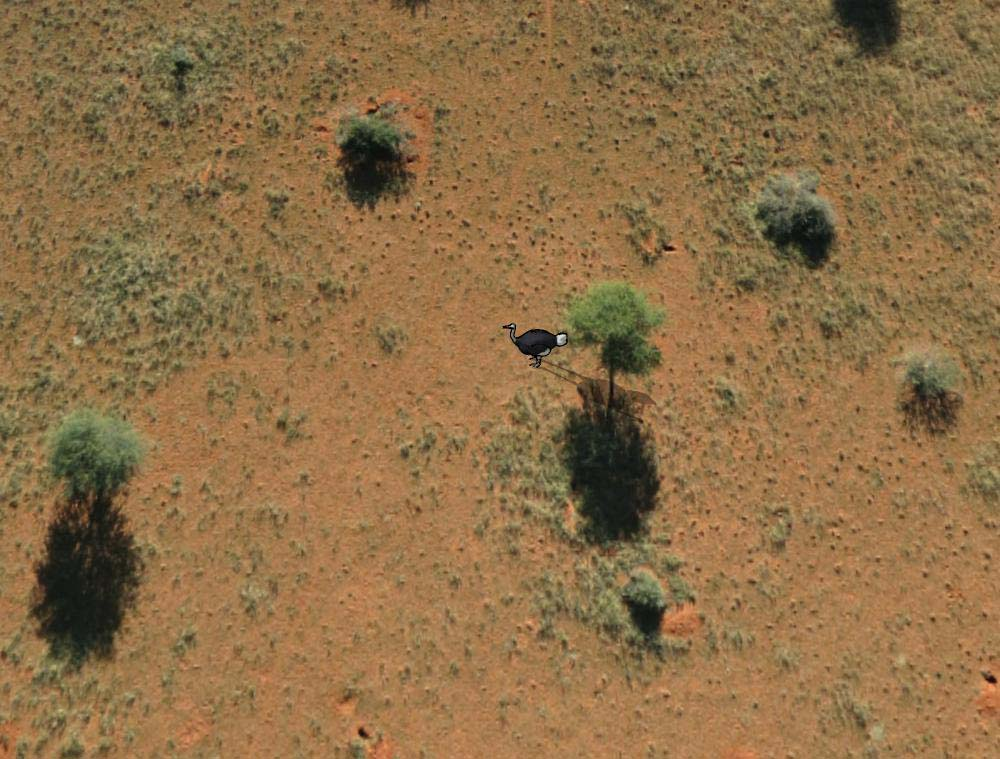springbok: (500, 313, 569, 369)
